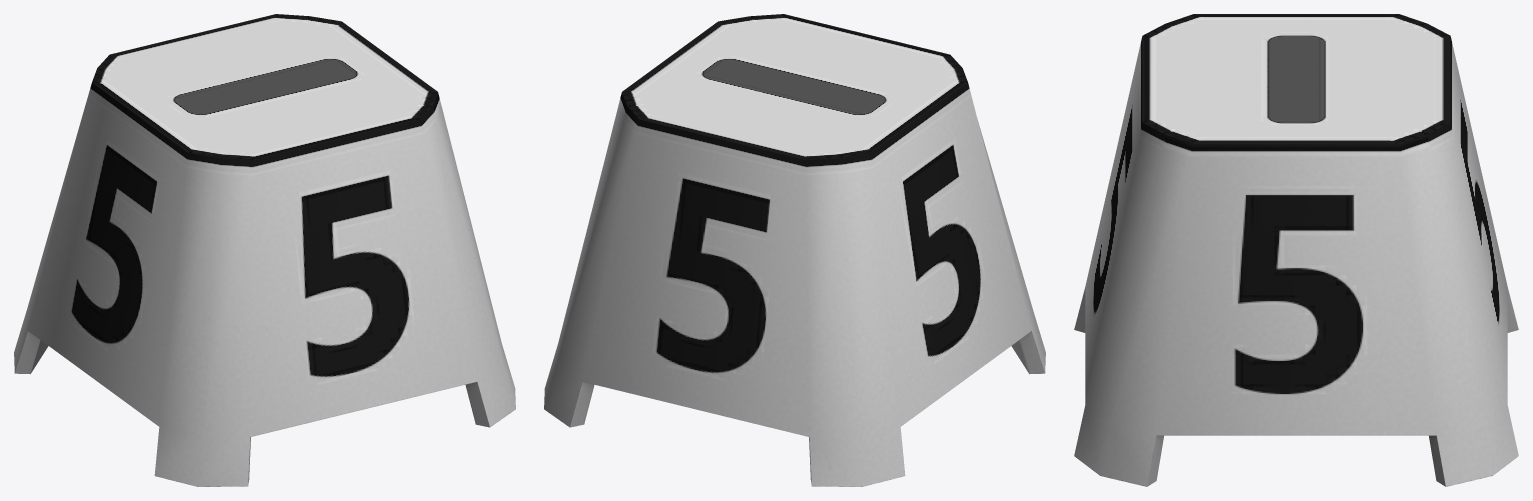
3 renders of one model, left to right at view 1: azimuth 30°, elevation 25°; view 2: azimuth 150°, elevation 25°; view 3: azimuth 270°, elevation 25°, orthographic. The views are drawn at different scales.
Parts seen in each view (by area): view 1: No_5_Box; view 2: No_5_Box; view 3: No_5_Box.
Boxes of the visible parts, <box> form: No_5_Box: <box>14,14,515,486</box>; No_5_Box: <box>544,14,1045,486</box>; No_5_Box: <box>1074,14,1518,486</box>.
Size of the model in its own units: 0.4097 by 0.319 by 0.4097.
Materials: 1 (1 with a texture image).
